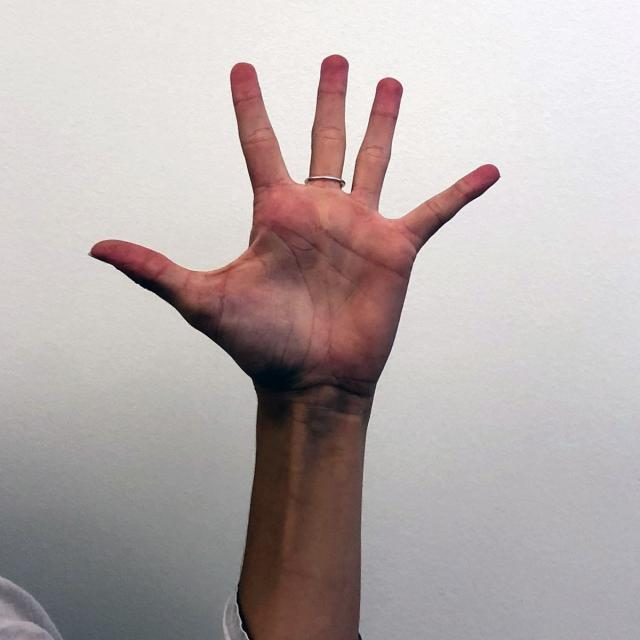bare_hand: (91, 55, 502, 422)
